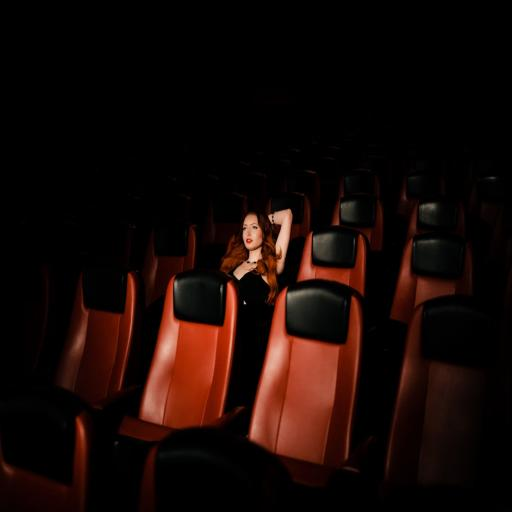face: (242, 214, 263, 251)
